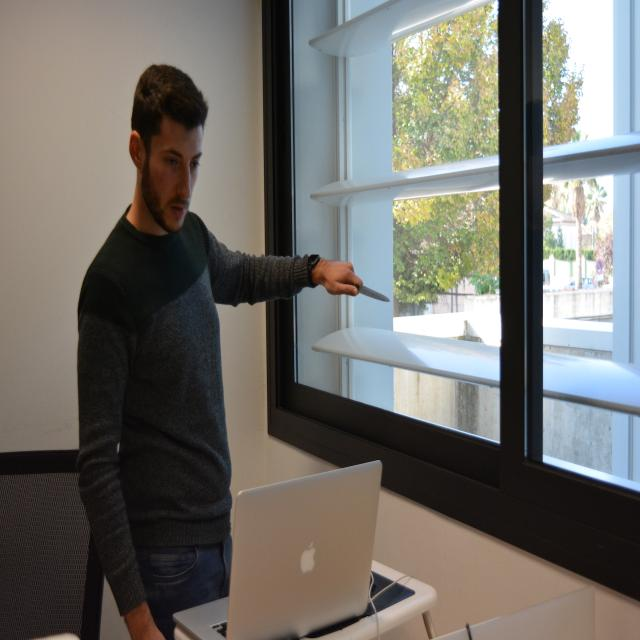knife: (357, 278, 395, 309)
